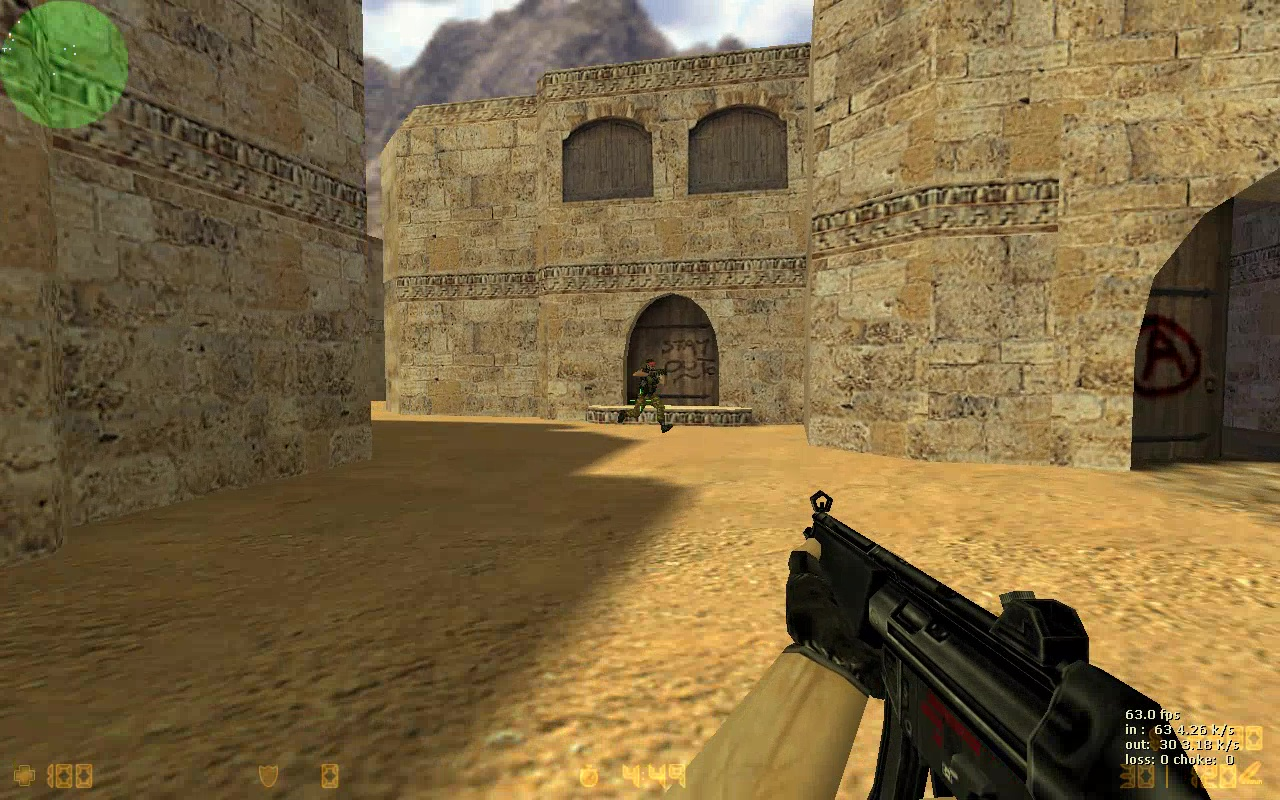terr1: (620, 361, 668, 434)
